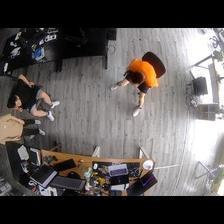normal: (107, 56, 163, 120), (7, 77, 61, 127)
